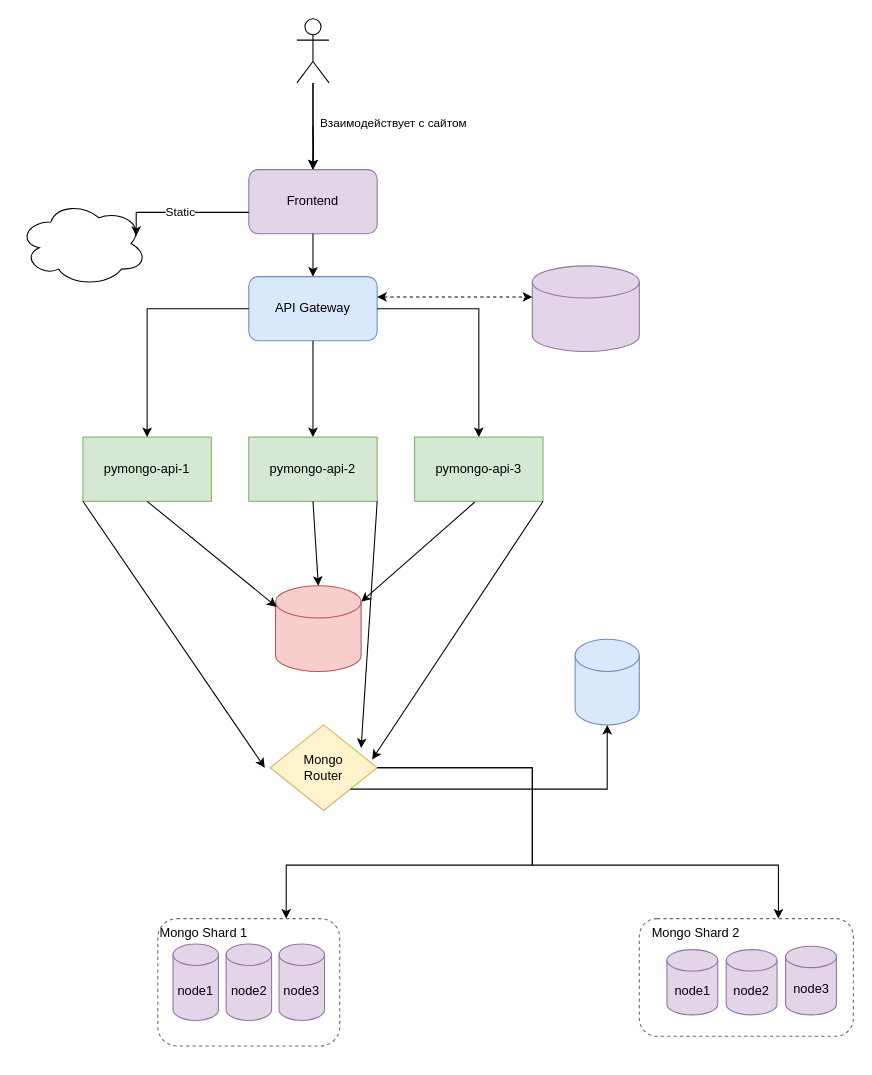
The diagram is 872 pixels wide and 1075 high, and some of its shapes have lost their labels. The shapes that lost their labels are listed below. From the top down, each one's box as (x1, y1, x2, y2) in pixels, then its label:
(296, 18, 329, 83): Пользователь
(18, 200, 147, 286): CDN
(531, 265, 639, 351): Consul
(274, 585, 361, 671): Redis
(574, 638, 639, 725): Mongo Config Server
